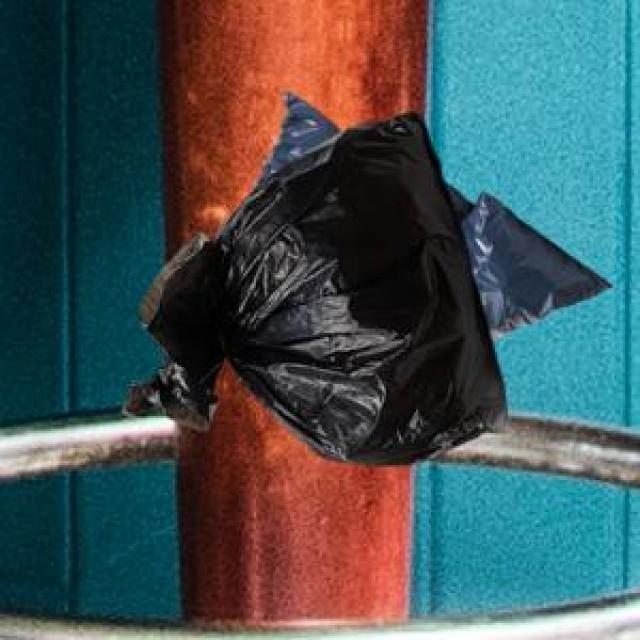waste: (145, 96, 606, 463)
